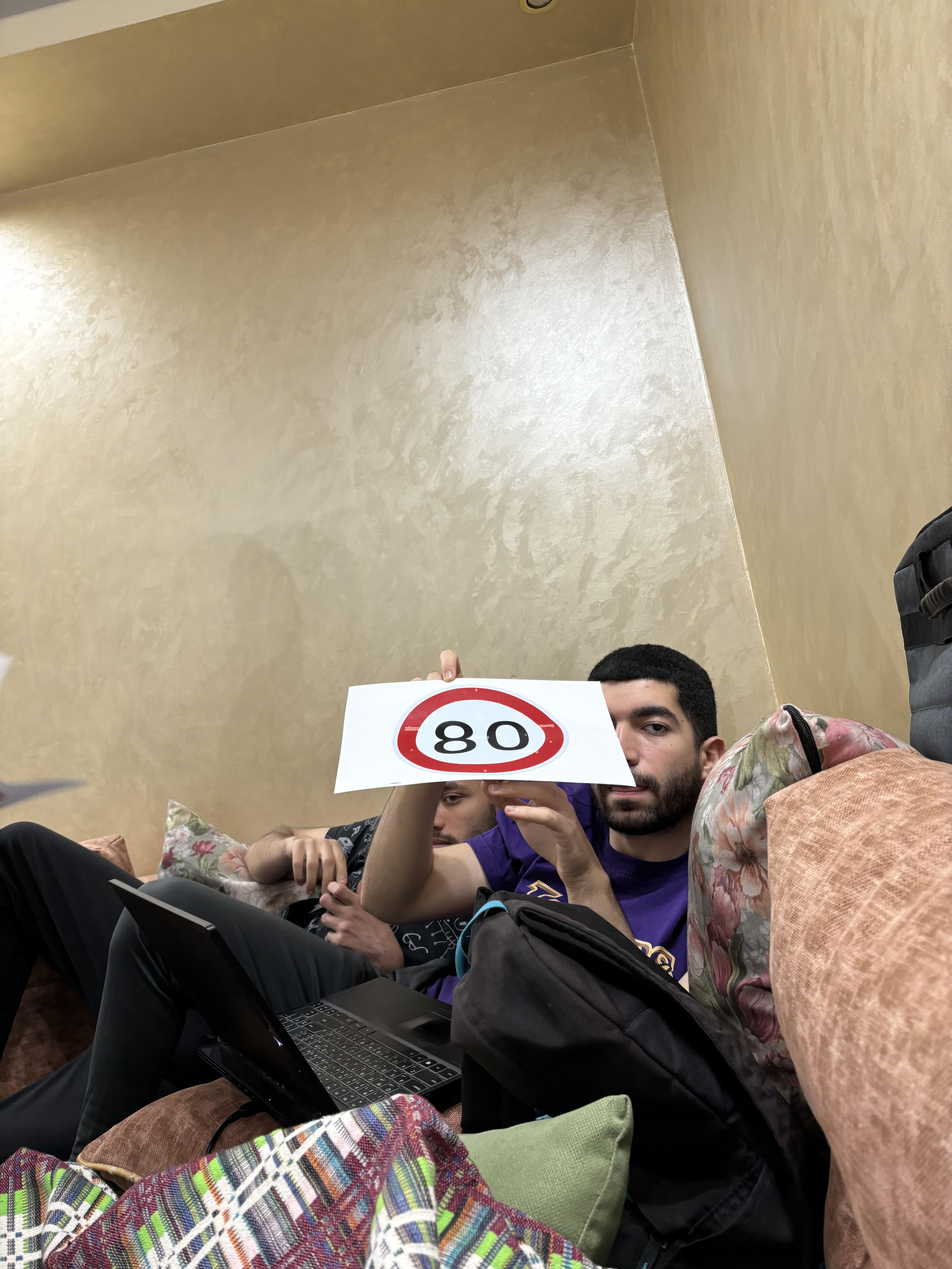80-Speed: (397, 679, 570, 780)
